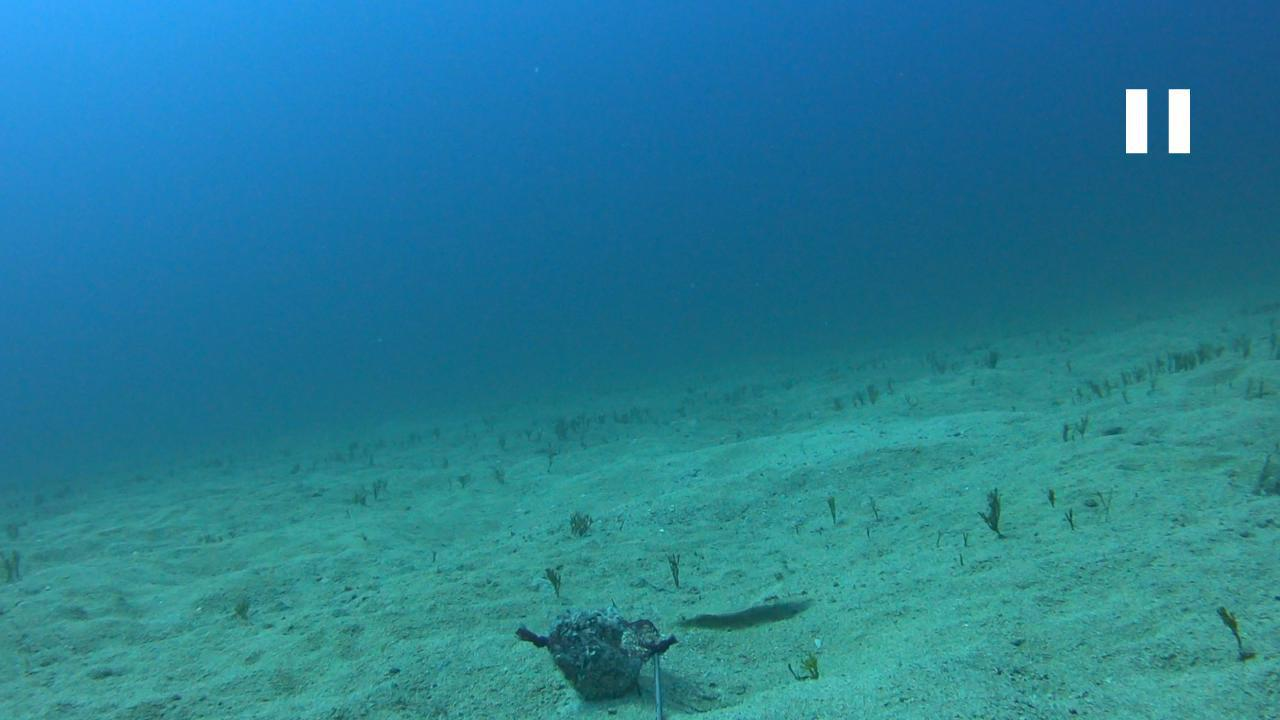bothus: (673, 553, 794, 624)
